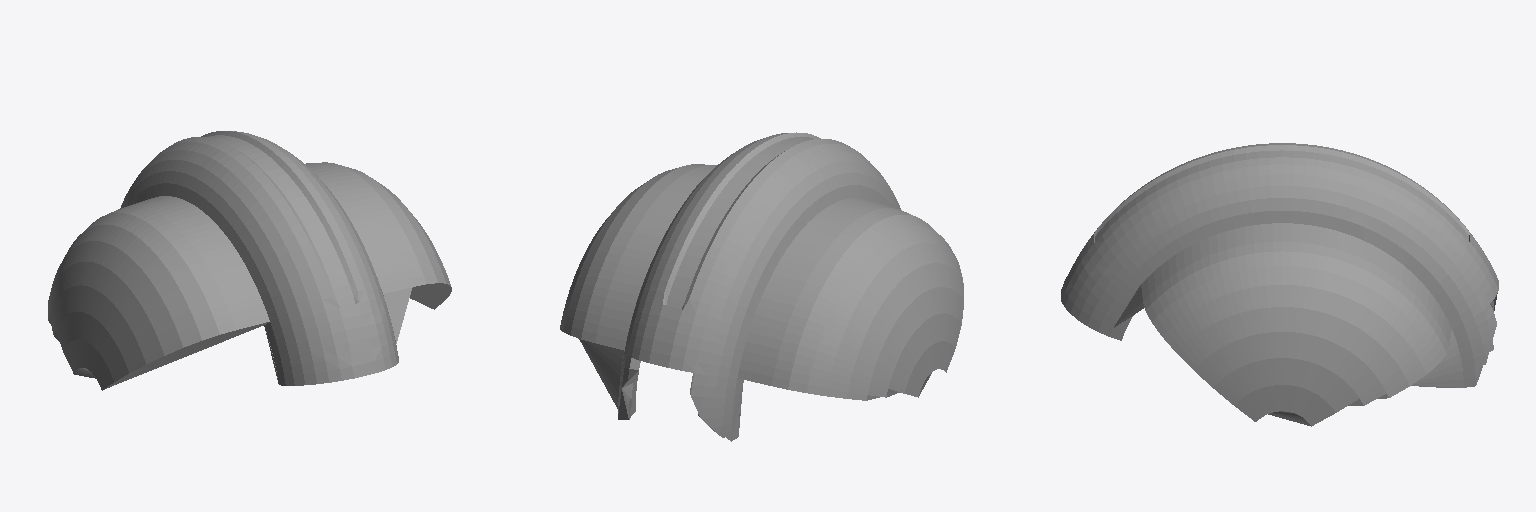
The model's file is coquehaut.obj.
The picture shows the model from 3 angles: view 1: azimuth 30°, elevation 25°; view 2: azimuth 150°, elevation 25°; view 3: azimuth 270°, elevation 25°; orthographic projection.
Parts seen in each view (by area): view 1: Cube; view 2: Cube; view 3: Cube.
Part boxes in pixels (bbox=[...]): Cube: bbox=[48, 131, 451, 390]; Cube: bbox=[560, 132, 963, 441]; Cube: bbox=[1061, 143, 1498, 426].
Bounding box in the file's own units: 6.81 × 4.11 × 7.77.